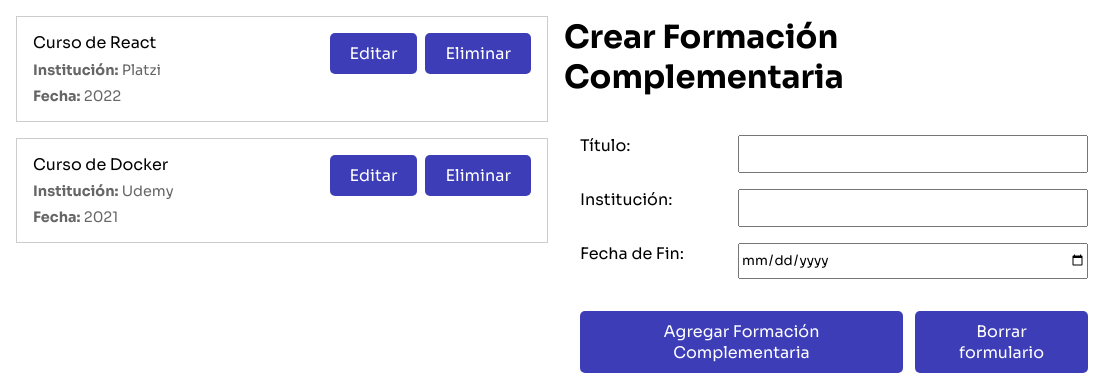
Test: <FormacionComplementaria /> › «Editar» vuelca los datos de la Card en el formulario
The width and height of the screenshot is (1105, 390).
Click the button "Editar" in the row of "Platzi" at (374, 54), box x1=330 y1=33 x2=418 y2=74
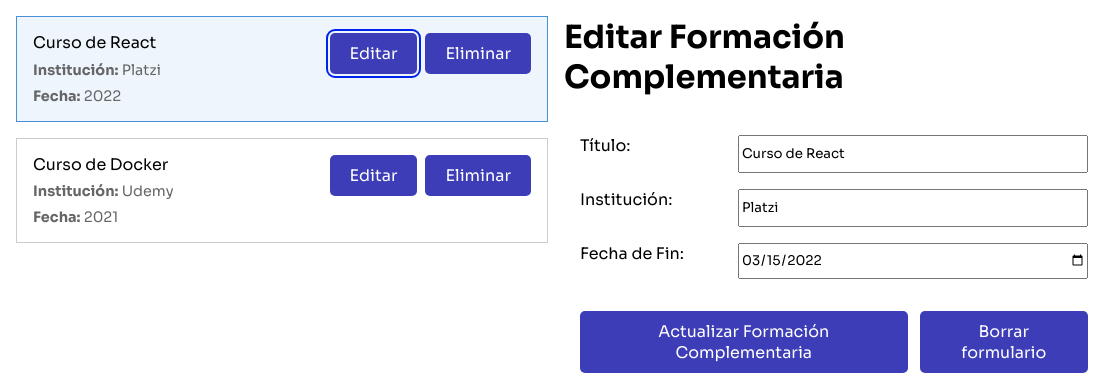
Now the field labelled "Título:" holds "Curso de React", box x1=738 y1=135 x2=1088 y2=173
Now the field labelled "Institución:" holds "Platzi", box x1=738 y1=189 x2=1088 y2=227
Now the date field labelled "Fecha de Fin:" holds "2022-03-15", box x1=738 y1=243 x2=1088 y2=279
